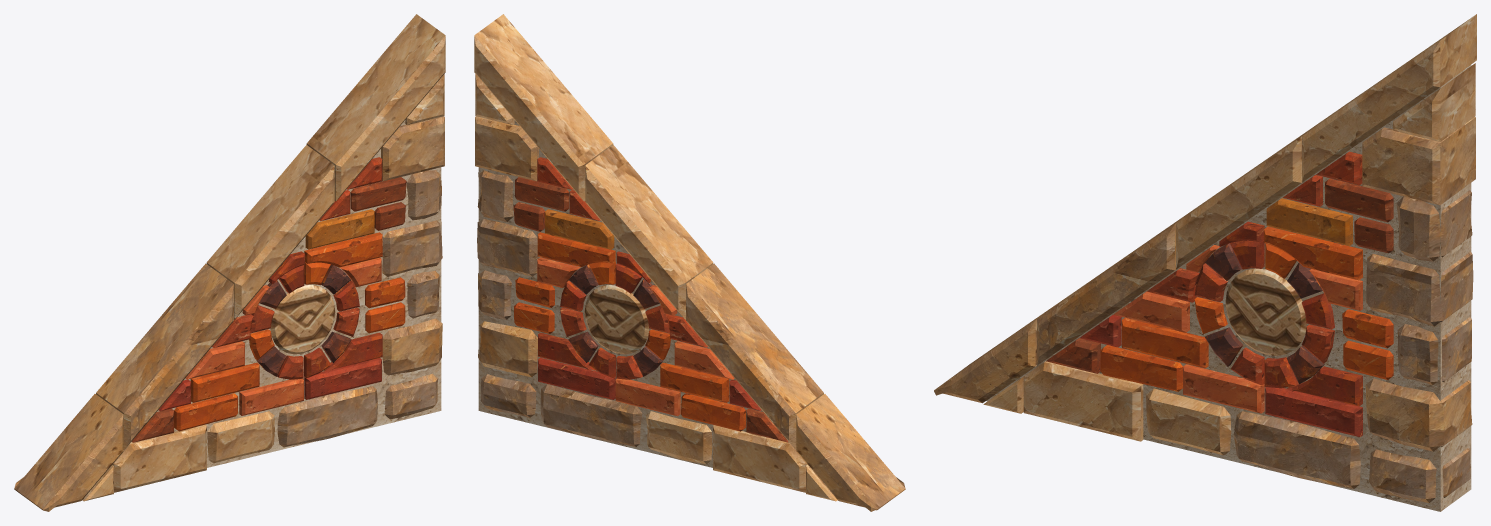
File: gable_45__clay_brick.glb
3 views of the same model, side by side, from view 1: azimuth 30°, elevation 25°; view 2: azimuth 150°, elevation 25°; view 3: azimuth 330°, elevation 25° (orthographic). The views are drawn at different scales.
Visible parts, largest first — view 1: model; view 2: model; view 3: model.
Boxes of the visible parts, bbox=[...] form: model: bbox=[14, 14, 445, 511]; model: bbox=[474, 14, 905, 511]; model: bbox=[934, 14, 1476, 511].
Bounding box in the file's own units: 1.99 × 1.78 × 0.2878.
Materials: 13 (13 with a texture image).
